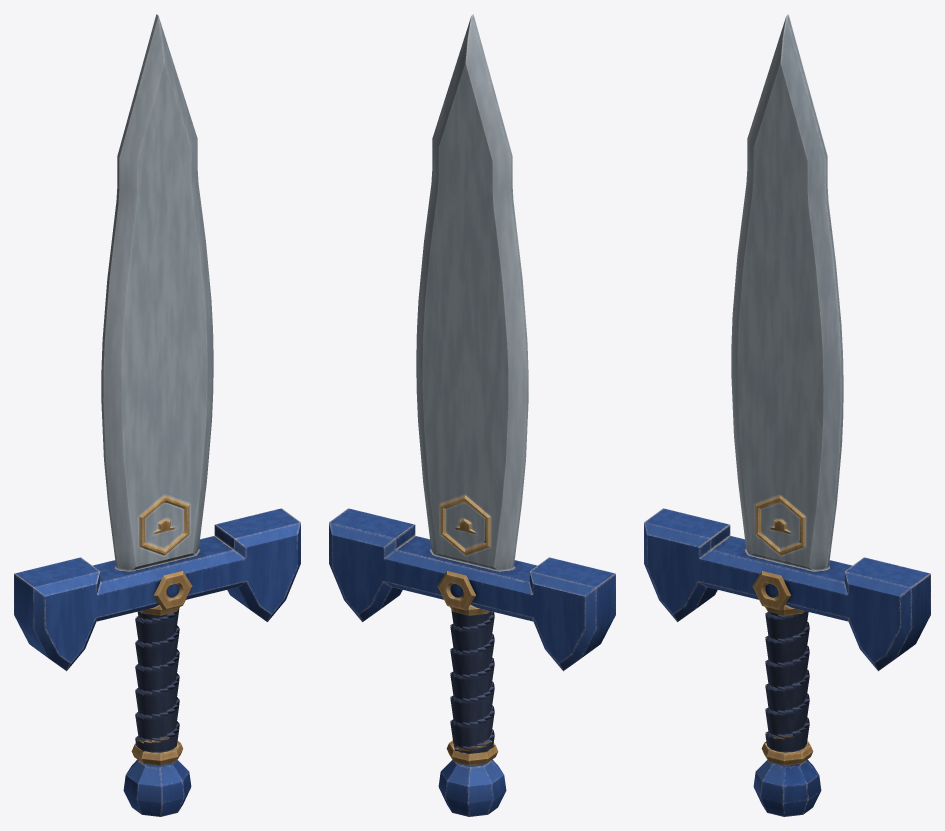
Rendered from Wardsteel.fbx.
3 views of the same model, side by side, from view 1: azimuth 30°, elevation 25°; view 2: azimuth 150°, elevation 25°; view 3: azimuth 330°, elevation 25° (orthographic).
Visible parts, largest first — view 1: Wardsteel_Body; view 2: Wardsteel_Body; view 3: Wardsteel_Body.
Part boxes in pixels (box(x1,y1,x2,y2)): Wardsteel_Body: box(14, 14, 300, 816); Wardsteel_Body: box(329, 14, 615, 816); Wardsteel_Body: box(644, 14, 930, 816).
Size of the model in its own units: 1.44 by 4.12 by 0.32.
